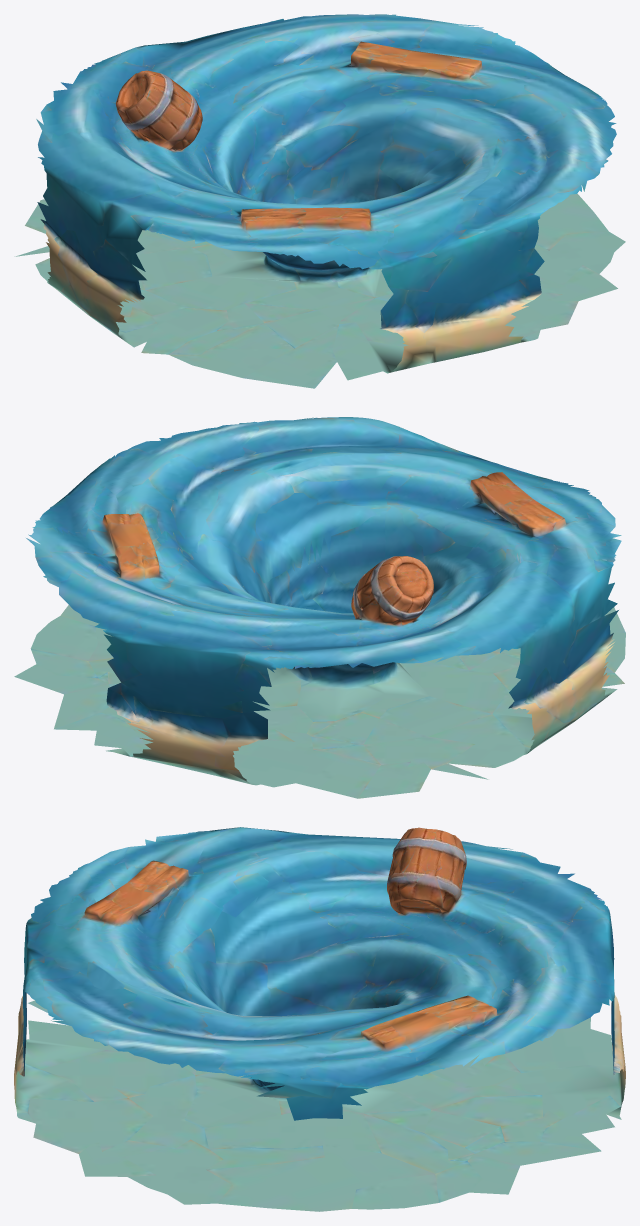
Rendered from m_whirlpool.glb.
The picture shows the model from 3 angles, top to bottom: view 1: azimuth 30°, elevation 25°; view 2: azimuth 150°, elevation 25°; view 3: azimuth 270°, elevation 25°; orthographic projection. The views are drawn at different scales.
Bounding box in the file's own units: 0.7909 × 0.265 × 0.7904.
1 material, 1 textured.
